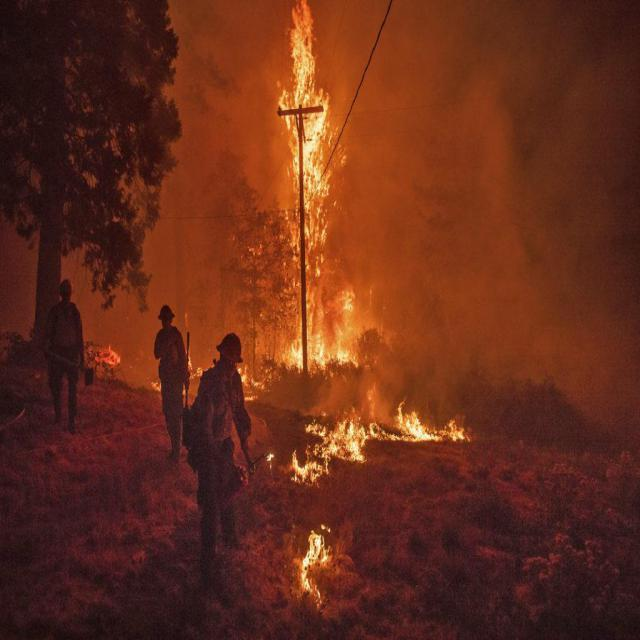Fire: (252, 13, 470, 481), (287, 518, 337, 606)
